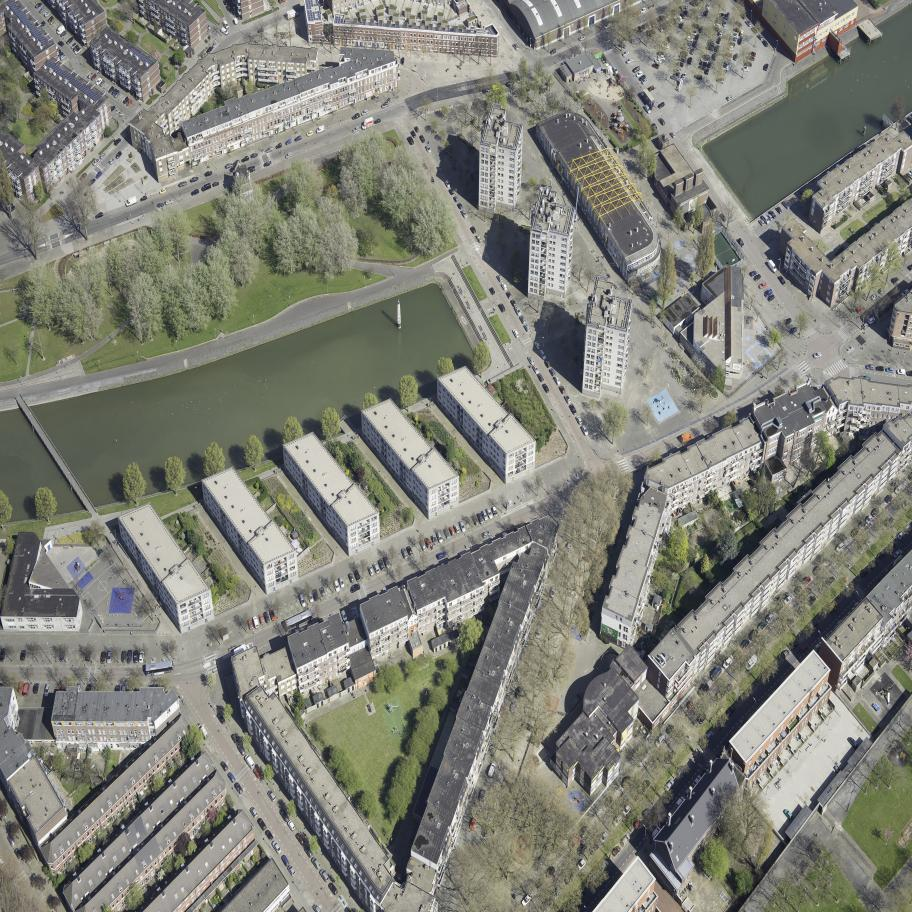large-vehicle: (281, 609, 315, 633), (144, 660, 175, 677)
small-vehicle: (638, 87, 659, 112), (231, 642, 252, 659), (743, 653, 760, 672), (662, 748, 677, 767), (720, 654, 736, 671), (566, 834, 582, 851), (359, 116, 377, 131), (721, 733, 737, 749), (708, 666, 724, 682), (550, 887, 565, 903), (284, 7, 301, 21), (197, 724, 211, 741), (519, 893, 534, 908), (653, 734, 668, 749), (243, 754, 257, 770), (697, 682, 711, 698), (575, 842, 589, 858), (678, 431, 695, 444), (611, 813, 625, 828), (631, 788, 645, 803), (846, 735, 860, 750), (270, 839, 283, 855), (256, 816, 269, 832), (620, 775, 634, 789), (724, 704, 738, 718), (318, 868, 331, 883), (327, 881, 340, 896), (278, 808, 291, 823), (294, 831, 307, 846), (544, 865, 557, 880), (619, 833, 632, 848), (674, 795, 687, 810), (663, 778, 676, 793), (773, 600, 786, 615), (766, 259, 779, 274), (588, 842, 601, 857), (124, 195, 139, 208), (310, 856, 323, 870), (674, 764, 687, 778), (534, 876, 547, 890), (620, 804, 633, 818), (650, 826, 663, 840), (575, 858, 588, 872), (765, 689, 778, 703), (748, 628, 761, 642), (691, 774, 704, 788), (714, 689, 727, 703), (775, 623, 788, 637), (603, 795, 616, 809), (597, 859, 610, 873), (236, 742, 248, 757), (598, 830, 610, 845), (610, 845, 623, 858), (233, 781, 245, 795), (266, 789, 278, 803), (303, 845, 315, 859), (640, 779, 652, 793), (215, 711, 227, 725), (487, 762, 497, 778), (664, 723, 676, 736), (782, 808, 795, 820), (699, 765, 711, 778), (696, 712, 708, 725), (589, 871, 601, 884), (811, 565, 824, 577), (808, 618, 820, 631), (264, 828, 275, 842), (348, 583, 362, 594), (558, 615, 572, 626), (796, 603, 807, 617), (579, 825, 590, 839), (514, 685, 524, 700), (782, 594, 794, 606), (764, 613, 776, 625), (788, 639, 800, 651), (780, 648, 792, 660), (739, 638, 751, 650), (893, 484, 905, 496), (703, 730, 715, 742), (732, 726, 744, 738), (867, 558, 879, 570), (825, 575, 837, 587), (817, 583, 829, 595), (806, 595, 818, 607), (280, 854, 291, 867), (12, 847, 23, 860), (314, 124, 327, 135), (286, 864, 297, 877), (252, 767, 263, 780), (226, 771, 237, 784), (244, 164, 257, 175), (286, 819, 297, 832), (685, 699, 696, 712), (632, 818, 643, 831), (6, 833, 16, 847), (293, 626, 302, 641), (481, 529, 493, 540), (884, 516, 895, 528), (850, 527, 861, 539), (877, 549, 888, 561), (683, 785, 694, 797), (857, 544, 868, 556), (835, 541, 846, 553), (892, 548, 904, 559), (723, 682, 734, 694), (219, 760, 230, 772), (641, 807, 652, 819), (801, 587, 813, 598), (799, 642, 810, 654), (813, 640, 824, 652), (249, 806, 259, 819), (435, 551, 448, 561), (580, 424, 590, 437), (568, 403, 578, 416), (252, 615, 261, 629), (43, 683, 52, 697), (353, 569, 362, 583), (509, 701, 518, 715), (881, 302, 892, 313), (756, 621, 767, 632), (896, 530, 907, 541), (857, 520, 868, 531), (802, 575, 813, 586), (859, 567, 870, 578), (763, 288, 774, 299), (793, 585, 804, 596), (55, 25, 67, 35), (902, 522, 912, 534), (318, 616, 326, 631), (786, 616, 796, 628), (715, 747, 725, 759), (200, 182, 212, 192), (400, 547, 409, 560), (501, 531, 510, 544), (476, 512, 485, 525), (269, 608, 277, 622), (299, 594, 307, 608), (549, 585, 557, 599), (469, 817, 477, 831), (540, 612, 548, 626), (87, 177, 97, 188), (4, 201, 15, 211), (568, 590, 579, 600), (761, 214, 771, 225), (781, 200, 791, 211), (777, 275, 787, 286), (884, 493, 894, 504), (870, 507, 881, 517), (864, 514, 874, 525), (372, 562, 381, 574), (23, 682, 30, 697), (126, 649, 133, 664), (311, 589, 319, 602), (338, 576, 346, 589), (333, 580, 341, 593), (419, 539, 427, 552), (383, 556, 391, 569), (377, 558, 385, 571), (486, 507, 494, 520), (479, 789, 487, 802), (482, 824, 490, 837), (73, 46, 83, 56), (86, 70, 96, 80), (107, 104, 117, 114), (78, 172, 88, 182), (7, 204, 17, 214), (0, 195, 10, 205), (867, 315, 877, 325), (874, 309, 884, 319), (764, 212, 774, 222), (112, 89, 122, 99), (864, 537, 874, 547), (753, 273, 763, 283), (900, 288, 910, 298), (870, 292, 880, 302), (94, 211, 105, 220), (230, 733, 239, 744), (758, 281, 769, 290), (229, 164, 240, 173), (380, 100, 391, 109), (406, 135, 415, 146), (498, 302, 507, 313), (553, 375, 562, 386), (541, 383, 550, 394), (643, 104, 652, 115), (587, 532, 598, 541), (585, 538, 596, 547), (657, 13, 666, 24), (737, 237, 746, 248), (766, 294, 777, 303), (219, 27, 230, 36), (189, 175, 200, 184), (106, 650, 113, 664), (100, 651, 107, 665), (17, 680, 24, 694), (487, 808, 494, 822), (59, 649, 66, 663), (566, 539, 573, 553), (300, 626, 307, 640), (307, 591, 315, 603), (443, 528, 451, 540), (436, 532, 444, 544), (430, 534, 438, 546), (424, 537, 432, 549), (367, 565, 375, 577), (347, 572, 355, 584), (340, 610, 348, 622), (514, 305, 522, 317), (539, 349, 547, 361), (491, 505, 499, 517), (471, 514, 479, 526), (263, 611, 270, 624), (33, 682, 40, 695), (459, 520, 466, 533), (535, 627, 542, 640), (92, 157, 101, 167), (351, 112, 361, 121), (543, 359, 552, 369), (548, 367, 557, 377), (536, 372, 545, 382), (509, 298, 518, 308), (657, 116, 666, 126), (734, 19, 743, 29), (783, 317, 793, 326), (789, 326, 799, 335), (768, 210, 777, 220), (122, 95, 131, 105), (113, 137, 122, 147), (877, 286, 887, 295), (902, 174, 912, 183), (205, 45, 214, 55), (190, 188, 200, 197), (262, 160, 273, 168), (453, 523, 461, 534), (512, 328, 520, 339), (481, 510, 489, 521), (448, 525, 456, 536), (669, 74, 680, 82), (670, 15, 678, 26), (679, 49, 690, 57), (222, 19, 230, 30), (177, 180, 188, 188), (85, 683, 92, 695), (85, 650, 92, 662), (258, 613, 265, 625), (247, 619, 254, 631), (319, 586, 326, 598), (65, 36, 74, 45), (71, 44, 80, 53), (38, 20, 47, 29), (95, 77, 104, 86), (94, 170, 103, 179), (855, 305, 864, 314), (635, 70, 644, 79), (657, 101, 666, 110), (681, 1, 690, 10), (891, 275, 900, 284), (798, 189, 807, 198), (125, 98, 134, 107), (110, 87, 118, 97), (240, 155, 250, 163), (360, 109, 370, 117), (264, 146, 274, 154), (421, 162, 429, 172), (564, 394, 572, 404), (532, 364, 540, 374), (527, 355, 535, 365), (164, 198, 174, 206), (660, 42, 670, 50), (460, 209, 468, 219), (496, 273, 504, 283), (500, 281, 508, 291), (488, 286, 496, 296), (505, 290, 513, 300), (424, 144, 432, 154), (419, 134, 427, 144), (625, 57, 635, 65), (885, 366, 895, 374), (896, 368, 906, 376), (720, 64, 730, 72), (575, 415, 583, 425), (582, 555, 592, 563), (224, 162, 234, 170), (719, 212, 727, 222), (133, 650, 139, 663), (121, 650, 127, 663), (406, 545, 413, 556), (107, 85, 115, 94), (274, 142, 283, 150), (76, 682, 82, 694), (60, 684, 66, 696), (99, 152, 108, 160), (108, 157, 116, 166), (20, 649, 26, 661), (38, 6, 47, 14), (661, 12, 669, 21), (648, 19, 656, 28), (749, 270, 758, 278), (861, 322, 870, 330), (352, 126, 361, 134), (284, 152, 293, 160), (232, 159, 241, 167), (444, 179, 452, 188), (512, 42, 520, 51), (516, 76, 525, 84), (519, 315, 527, 324), (523, 323, 531, 332), (631, 10, 640, 18), (651, 62, 660, 70), (632, 65, 641, 73), (638, 74, 647, 82), (640, 77, 649, 85), (603, 22, 612, 30), (748, 50, 757, 58), (716, 76, 725, 84), (692, 22, 701, 30), (34, 1, 43, 9), (655, 16, 663, 25), (681, 44, 690, 52), (705, 1, 713, 10), (694, 73, 703, 81), (758, 218, 766, 227), (775, 206, 783, 215), (889, 299, 897, 308), (761, 39, 769, 48), (744, 19, 753, 27), (115, 151, 123, 160), (834, 163, 842, 172), (156, 201, 165, 209), (559, 385, 566, 395), (204, 170, 214, 177), (59, 30, 67, 38), (70, 42, 78, 50), (57, 39, 65, 47), (59, 53, 67, 61), (90, 73, 98, 81), (55, 24, 63, 32), (48, 18, 56, 26), (46, 15, 54, 23), (43, 11, 51, 19), (669, 131, 677, 139), (611, 66, 619, 74), (644, 21, 652, 29), (670, 8, 678, 16), (656, 25, 664, 33), (739, 12, 747, 20), (726, 94, 734, 102), (677, 4, 685, 12), (713, 22, 721, 30), (826, 170, 834, 178), (212, 180, 220, 188), (200, 52, 208, 60), (56, 51, 65, 58), (294, 135, 303, 142), (284, 139, 293, 146), (813, 352, 822, 359), (866, 364, 875, 371), (876, 365, 885, 372), (250, 152, 259, 159), (373, 118, 382, 125), (448, 187, 455, 196), (534, 341, 541, 350), (470, 225, 477, 234), (639, 7, 648, 14), (654, 57, 663, 64), (621, 50, 630, 57), (673, 67, 682, 74), (675, 61, 684, 68), (616, 72, 623, 81), (730, 32, 739, 39), (717, 12, 726, 19), (714, 18, 723, 25), (702, 53, 711, 60), (721, 61, 730, 68), (617, 37, 626, 44), (651, 122, 658, 131), (690, 7, 699, 14), (683, 41, 692, 48), (700, 57, 709, 64), (725, 44, 734, 51), (697, 64, 706, 71), (139, 195, 148, 202), (159, 188, 168, 195), (429, 175, 435, 185), (743, 61, 753, 67), (139, 651, 144, 663), (121, 685, 127, 695), (763, 62, 769, 72), (99, 79, 106, 87), (306, 130, 314, 137), (232, 17, 239, 25), (257, 27, 265, 34), (664, 11, 672, 18), (410, 130, 417, 138), (436, 165, 443, 173), (549, 48, 557, 55), (676, 14, 683, 22), (457, 202, 464, 210), (657, 54, 665, 61), (619, 42, 627, 49), (647, 85, 655, 92), (751, 26, 758, 34), (628, 37, 635, 45), (683, 9, 690, 17), (204, 23, 212, 30), (757, 33, 764, 41), (211, 41, 218, 49), (115, 685, 120, 696), (687, 56, 693, 65), (729, 36, 738, 42), (707, 38, 716, 44), (696, 14, 705, 20), (699, 61, 708, 67), (724, 52, 733, 58), (741, 66, 750, 72), (483, 87, 490, 94), (579, 35, 586, 42), (637, 25, 644, 32), (414, 125, 420, 133), (453, 195, 459, 203), (506, 81, 514, 87), (732, 27, 740, 33), (722, 19, 728, 27), (728, 41, 736, 47), (733, 53, 739, 61), (679, 57, 687, 63), (686, 36, 694, 42), (706, 45, 714, 51), (689, 30, 697, 36), (681, 72, 687, 80), (713, 52, 718, 61), (690, 47, 695, 56), (668, 33, 672, 44), (641, 23, 647, 30), (725, 12, 730, 20), (715, 45, 720, 53), (707, 61, 712, 69), (679, 53, 687, 58), (656, 50, 664, 55), (693, 40, 698, 48), (699, 26, 704, 34), (695, 33, 700, 41), (738, 37, 743, 45), (680, 21, 684, 30), (705, 68, 710, 75), (651, 27, 656, 34), (704, 9, 709, 16), (718, 30, 723, 37), (401, 57, 405, 65), (717, 37, 721, 44), (740, 30, 744, 37)
